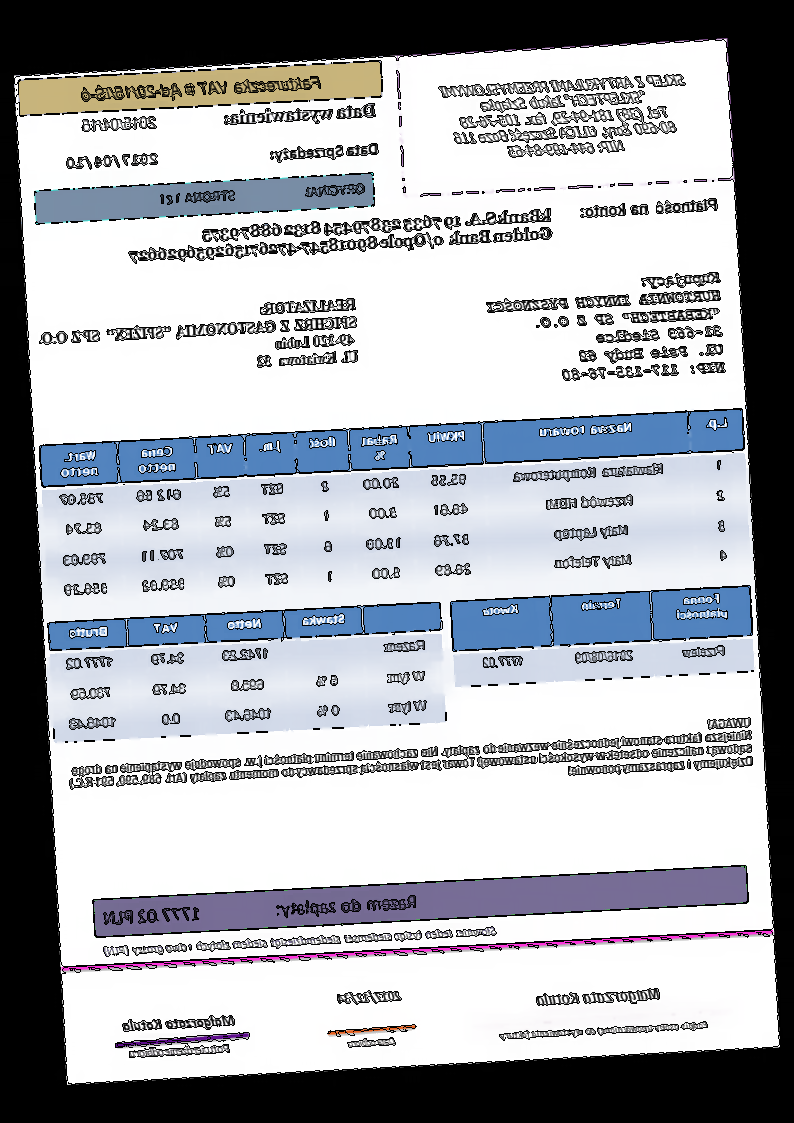Table: (37, 405, 754, 612), (47, 599, 451, 746), (449, 584, 756, 688)
TextBox: (64, 712, 757, 806), (482, 266, 731, 388), (33, 294, 363, 383), (124, 203, 557, 266), (436, 65, 693, 168), (97, 922, 500, 960), (101, 887, 422, 929), (74, 69, 326, 105), (157, 178, 368, 210), (495, 1017, 715, 1043), (219, 97, 379, 129), (576, 194, 724, 224), (532, 980, 664, 1011), (263, 137, 384, 166), (117, 1009, 241, 1035), (62, 146, 162, 174), (80, 108, 162, 138), (125, 1041, 236, 1062), (335, 986, 405, 1008), (344, 1033, 400, 1053)
